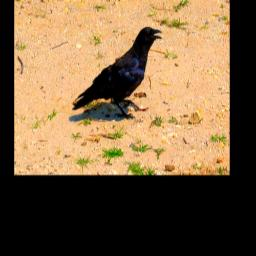Crow: (72, 26, 162, 119)
